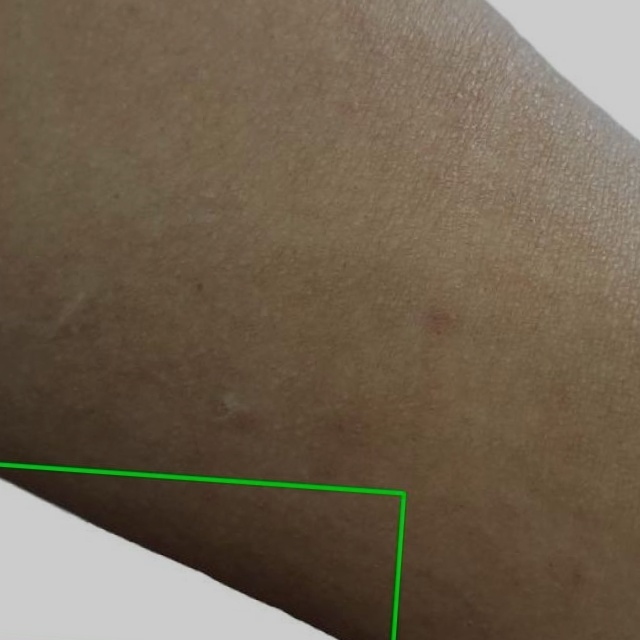Tinea Corporis: (0, 464, 403, 639)
